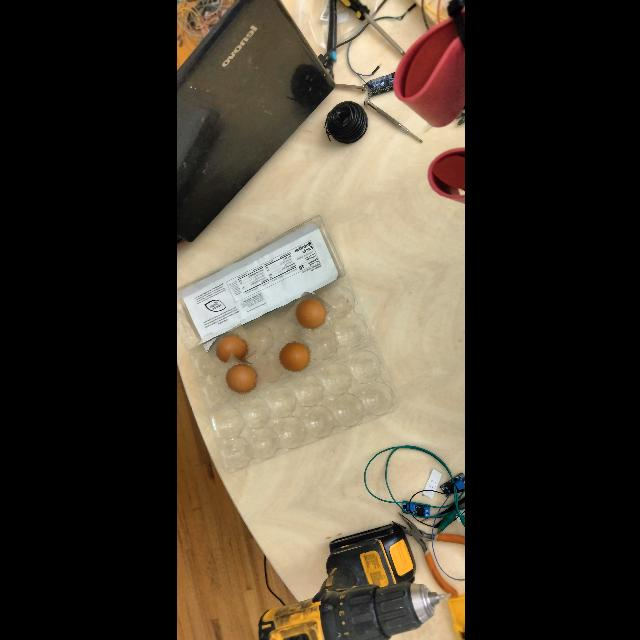Egg: (287, 292, 333, 338), (218, 357, 264, 401), (206, 328, 254, 370), (272, 337, 314, 378)
